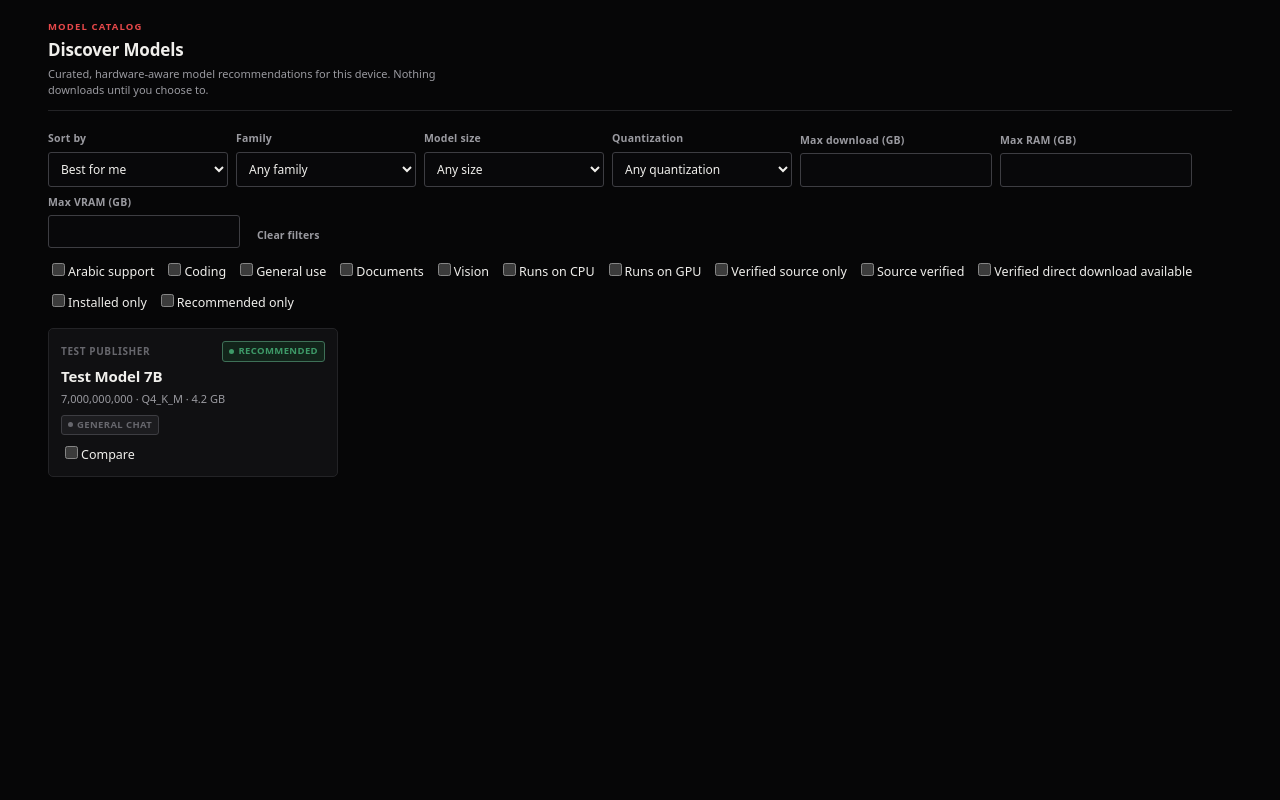
Test: Discover page — model card navigation safety › Close button closes the modal and returns to the model grid
Click the text "Test Model 7B": x=112, y=376 x1=61 y1=366 x2=162 y2=386
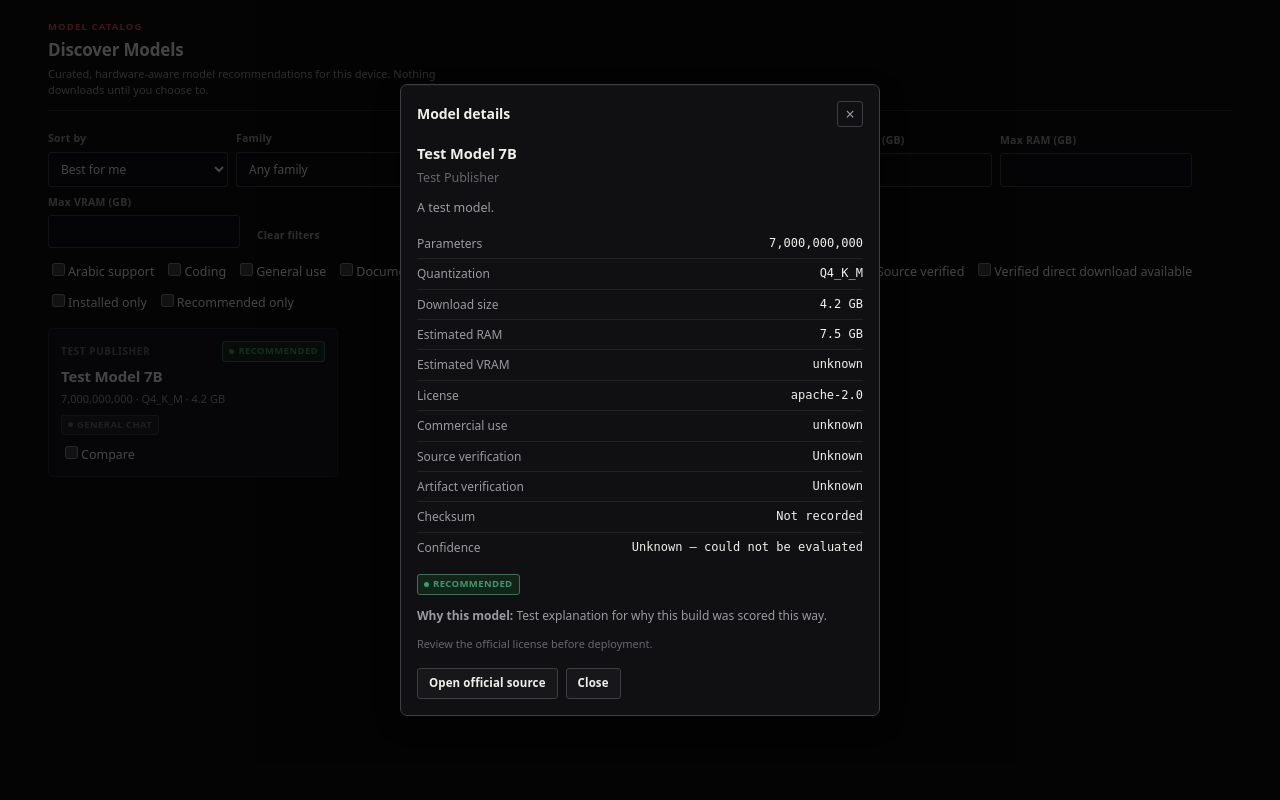
Expected: the dialog is shown, x1=400 y1=84 x2=880 y2=716
Click the button "Close": x=593, y=683 x1=566 y1=668 x2=621 y2=699
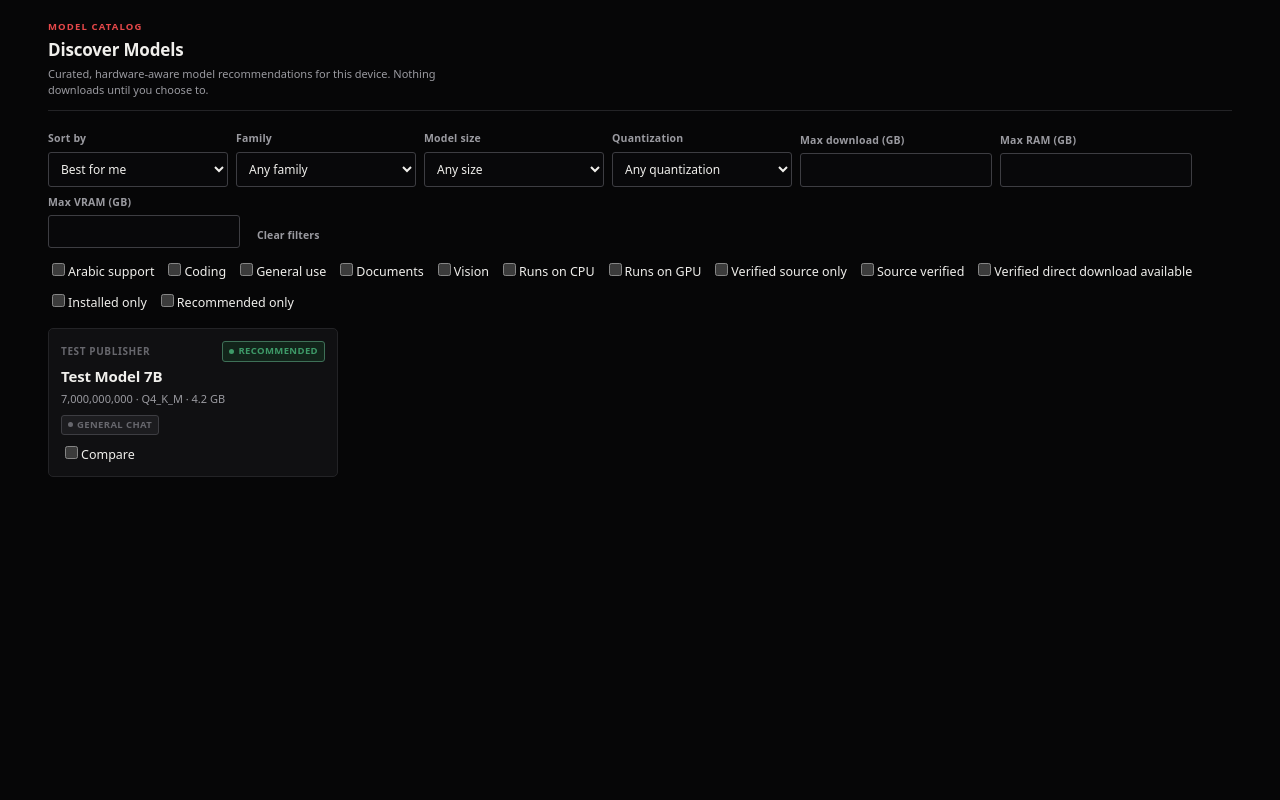
Expected: the dialog is gone
